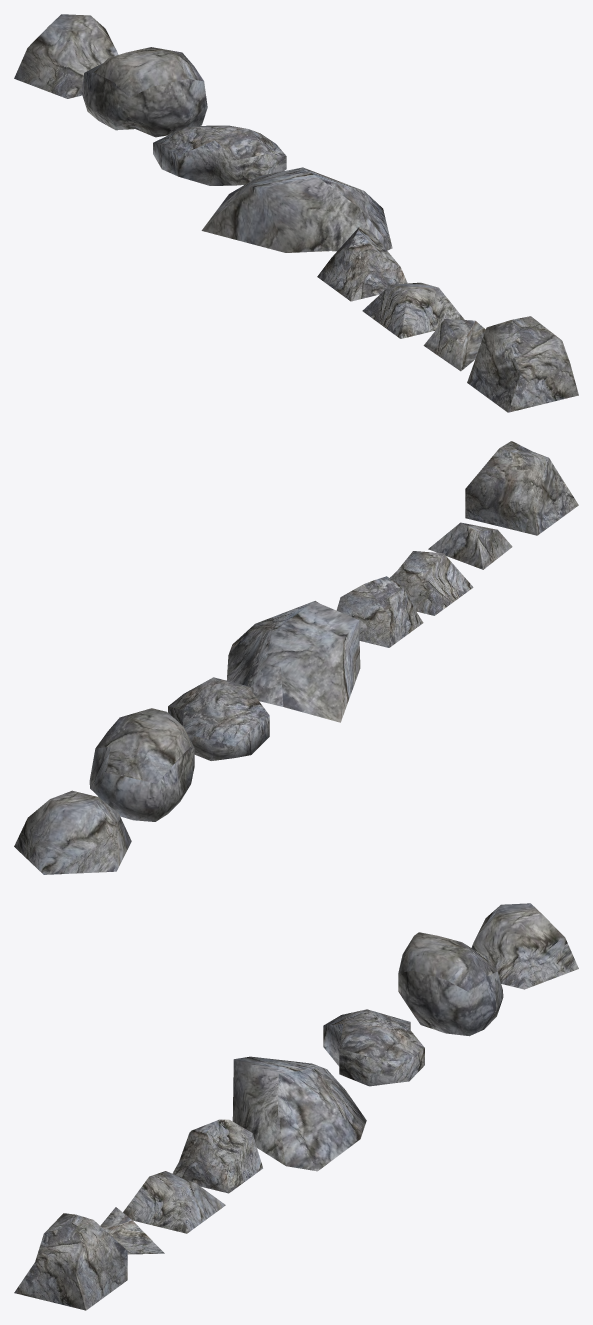
Rendered from rocas_low_poly.glb.
3 renders of one model, top to bottom at view 1: azimuth 30°, elevation 25°; view 2: azimuth 150°, elevation 25°; view 3: azimuth 330°, elevation 25°, orthographic.
Parts seen in each view (by area): view 1: Material_008-material (×8); view 2: Material_008-material (×8); view 3: Material_008-material (×8).
Part boxes in pixels (box(x1,y1,x2,y2)): Material_008-material (×8): box(14, 14, 578, 412); Material_008-material (×8): box(14, 441, 578, 874); Material_008-material (×8): box(14, 903, 578, 1310).
Bounding box in the file's own units: 11.24 × 5.61 × 67.09.
Materials: 1 (1 with a texture image).
